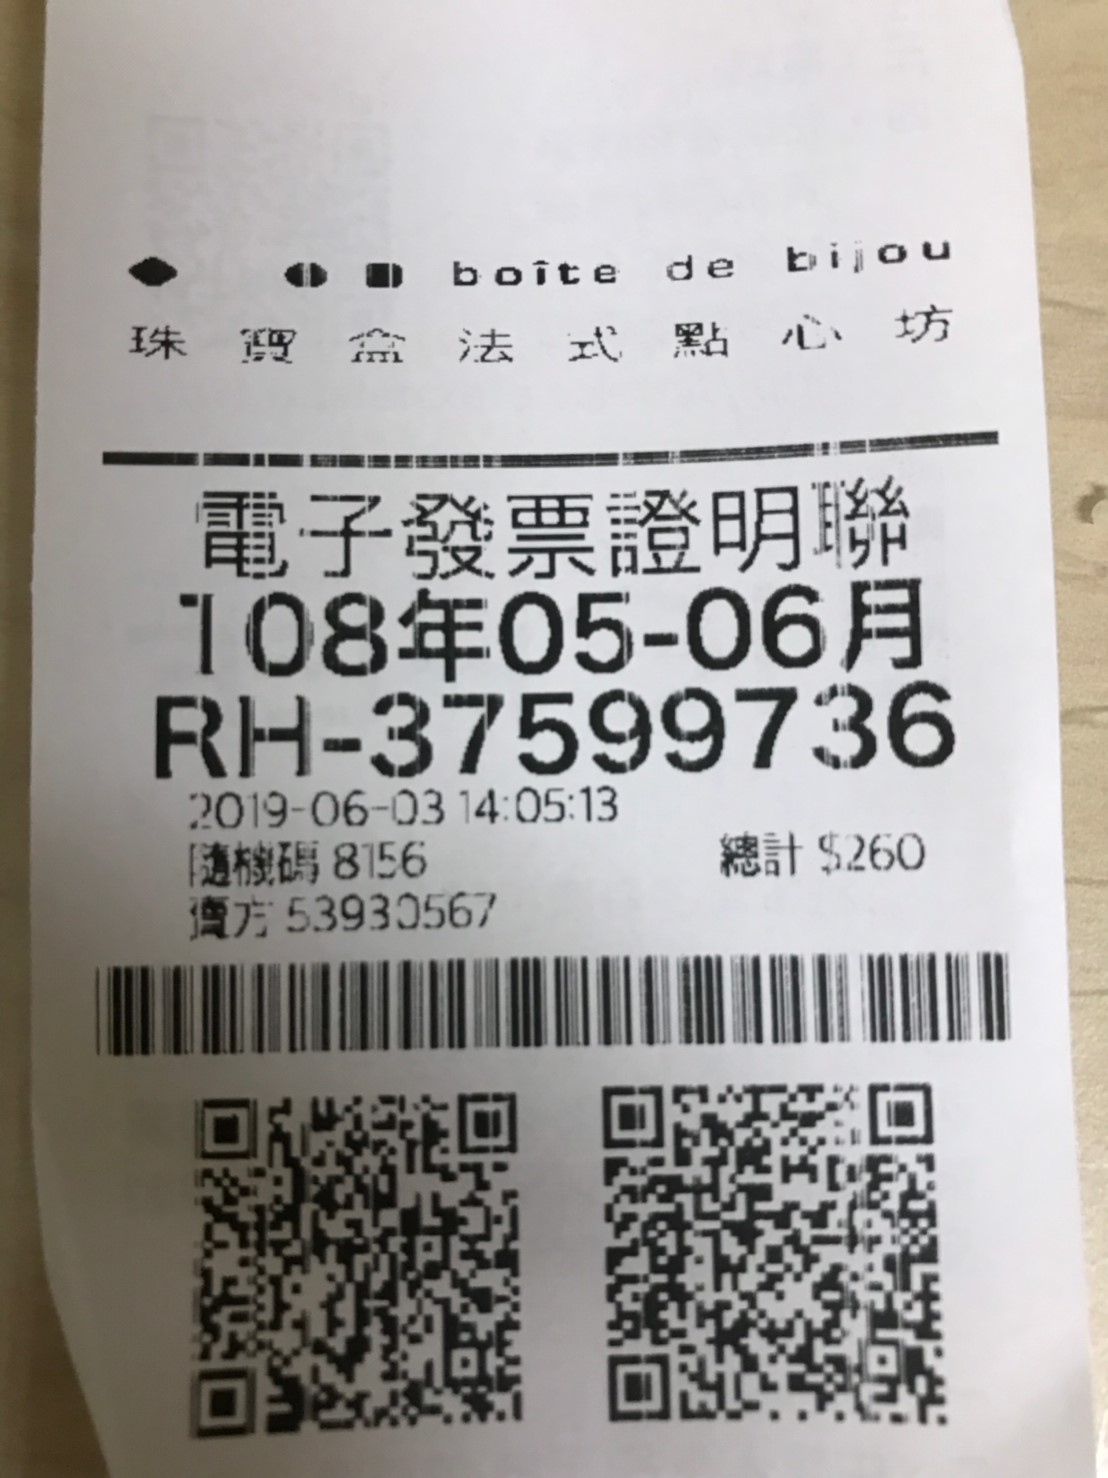Date_New: (173, 580, 922, 678)
Number_New: (364, 678, 957, 783)
